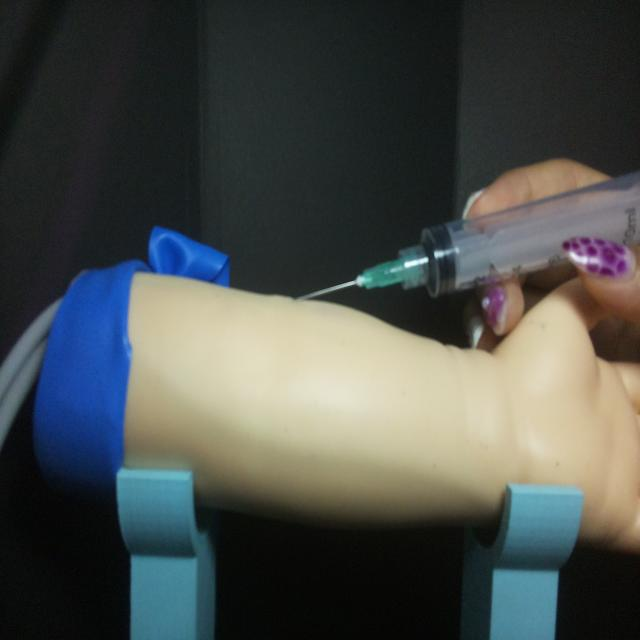17deg: (292, 166, 638, 307)
